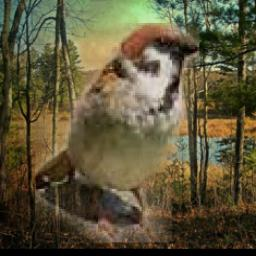Sparrow: (34, 23, 198, 242)
